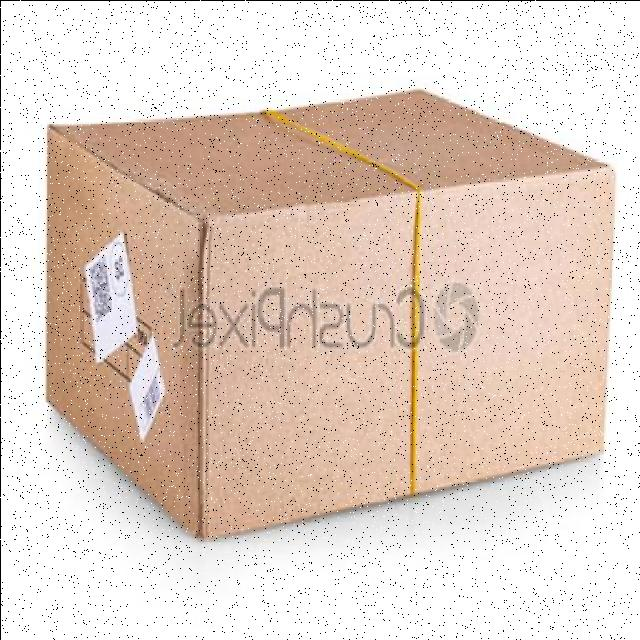normal: (39, 83, 622, 540)
